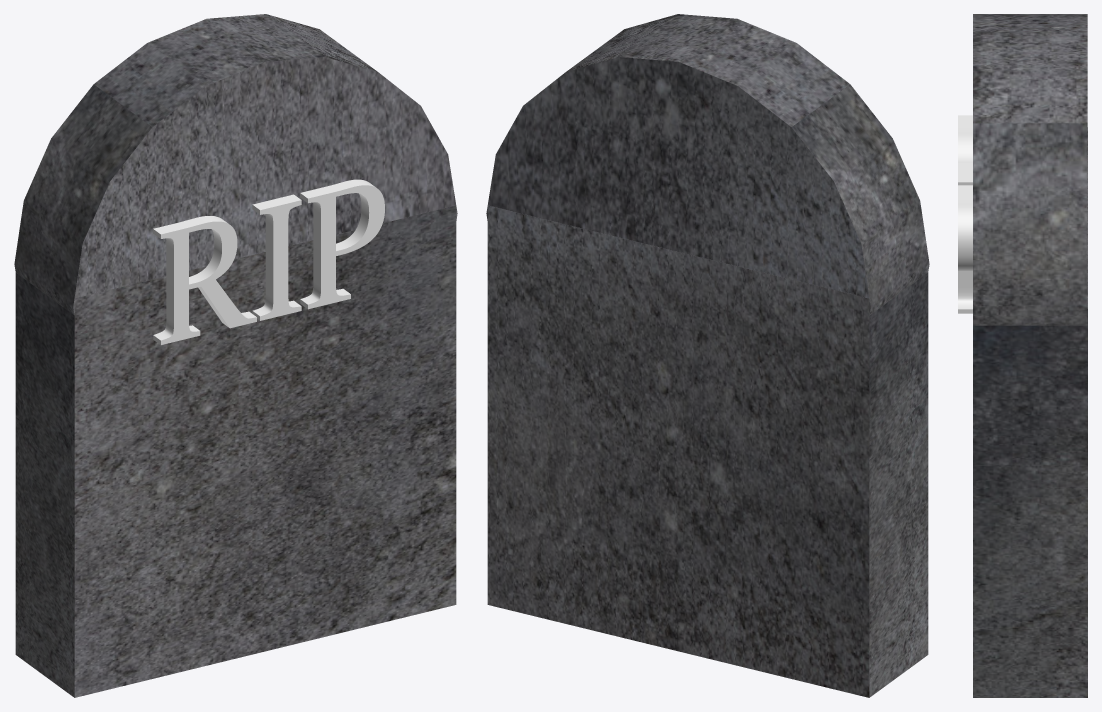
File: RIP Grave.fbx
3 views of the same model, side by side, from view 1: azimuth 30°, elevation 25°; view 2: azimuth 150°, elevation 25°; view 3: azimuth 270°, elevation 25° (orthographic). The views are drawn at different scales.
Parts seen in each view (by area): view 1: pCylinder3; view 2: pCylinder3; view 3: pCylinder3.
Boxes of the visible parts, x1,y1,x2,y2 form: pCylinder3: (14,14,457,697); pCylinder3: (486,14,929,697); pCylinder3: (958,14,1087,697).
Size of the model in its own units: 10.5 by 15.39 by 3.15.
2 materials, 1 textured.
